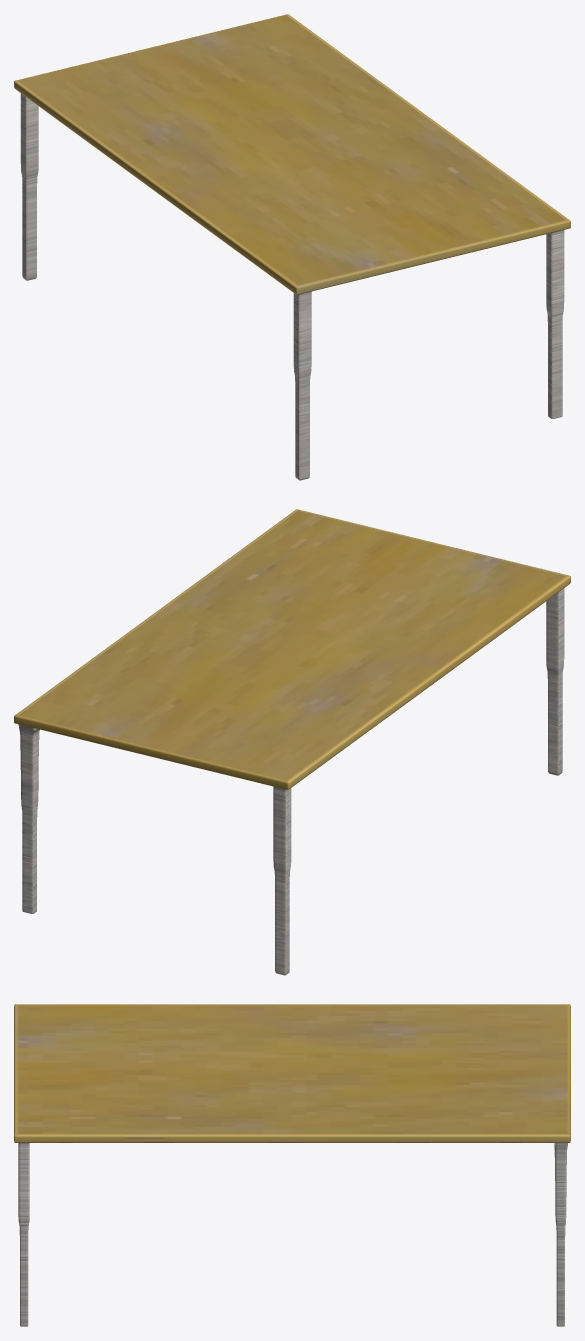
The model's file is Table.fbx.
3 renders of one model, top to bottom at view 1: azimuth 30°, elevation 25°; view 2: azimuth 150°, elevation 25°; view 3: azimuth 270°, elevation 25°, orthographic.
Parts seen in each view (by area): view 1: Tabke; view 2: Tabke; view 3: Tabke.
Part boxes in pixels (x1=…): Tabke: x1=14, y1=14, x2=570, y2=480; Tabke: x1=14, y1=509, x2=570, y2=975; Tabke: x1=14, y1=1004, x2=570, y2=1326.
Bounding box in the file's own units: 14.06 × 9.63 × 25.08.
2 materials, 2 textured.
